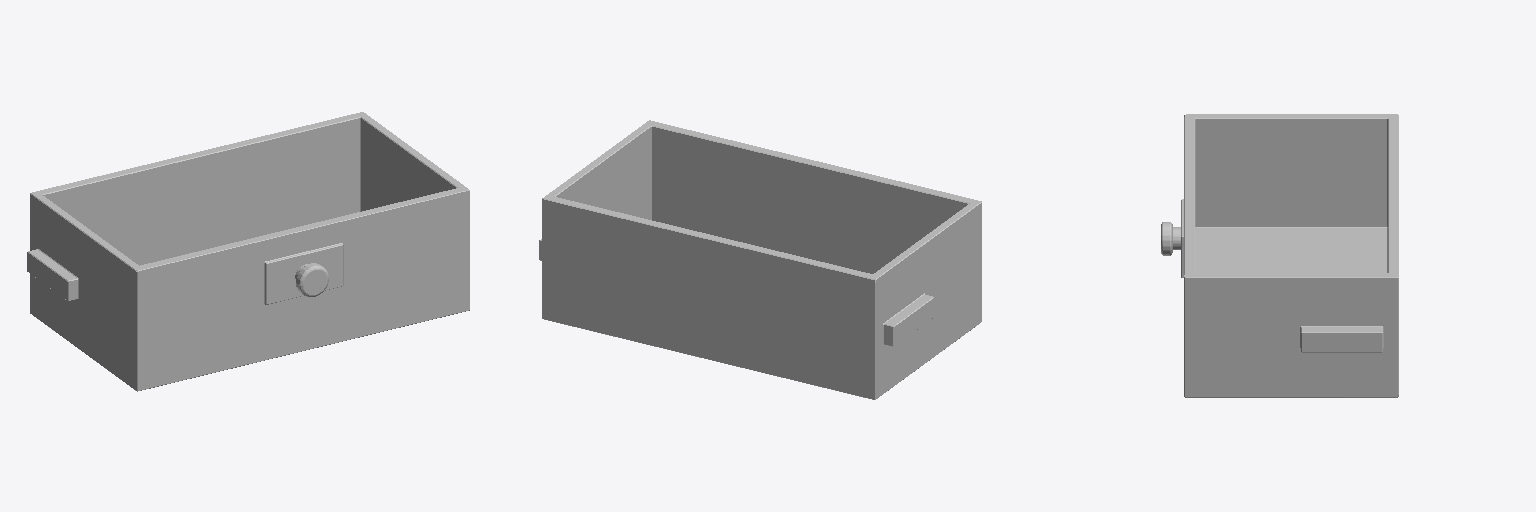
Rendered from Drawer1.obj.
The picture shows the model from 3 angles: view 1: azimuth 30°, elevation 25°; view 2: azimuth 150°, elevation 25°; view 3: azimuth 270°, elevation 25°; orthographic projection.
Parts seen in each view (by area): view 1: Drawer1; view 2: Drawer1; view 3: Drawer1.
Boxes of the visible parts, <box> form: Drawer1: <box>27,112,469,391</box>; Drawer1: <box>539,120,981,399</box>; Drawer1: <box>1161,114,1398,397</box>.
Size of the model in its own units: 5.55 by 1.81 by 3.22.